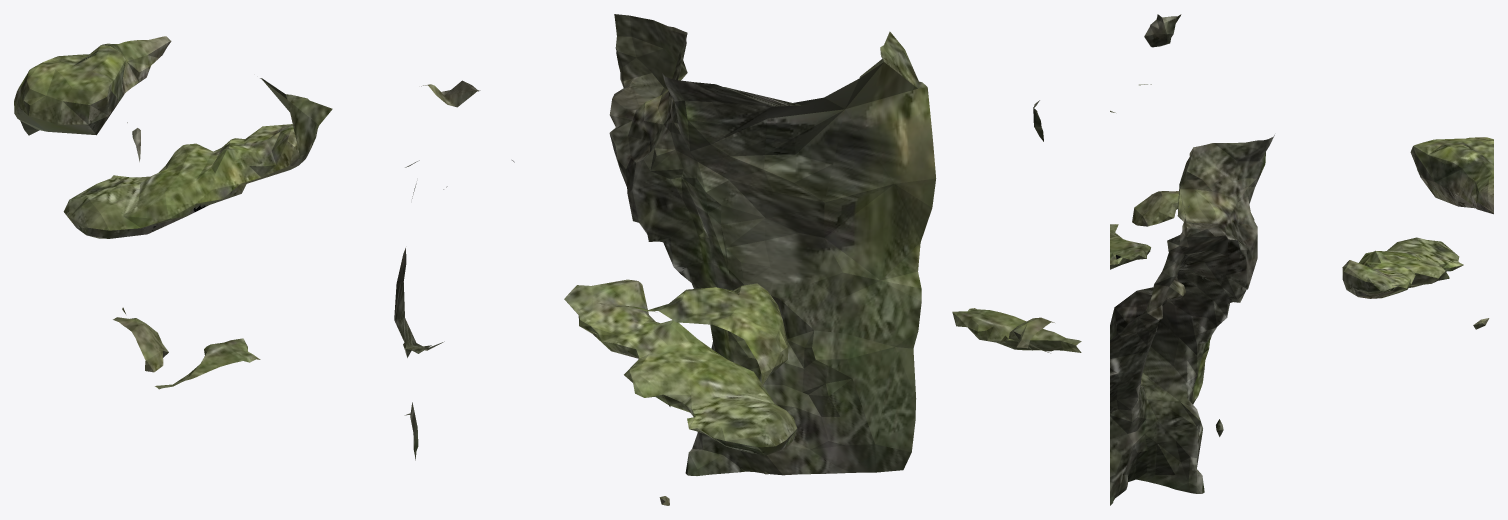
The picture shows the model from 3 angles, left to right: view 1: azimuth 30°, elevation 25°; view 2: azimuth 150°, elevation 25°; view 3: azimuth 270°, elevation 25°; orthographic projection. The views are drawn at different scales.
Bounding box in the file's own units: 2.95 × 2.95 × 2.95.
3 materials, 3 textured.
